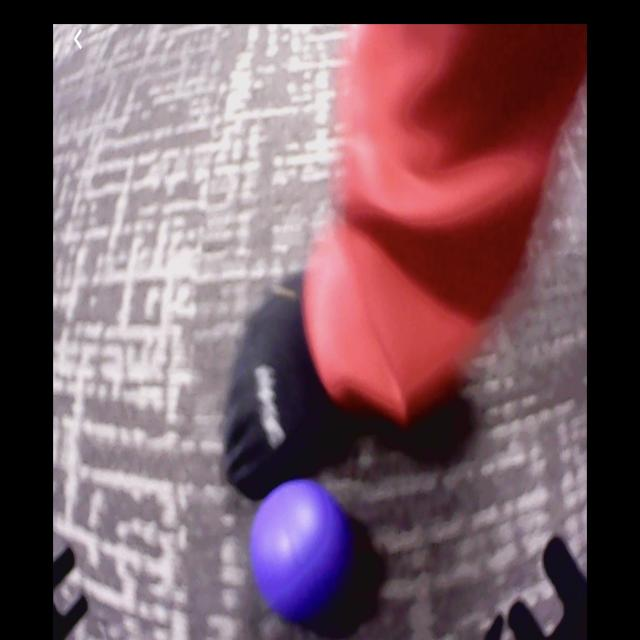ball: (252, 484, 350, 617)
